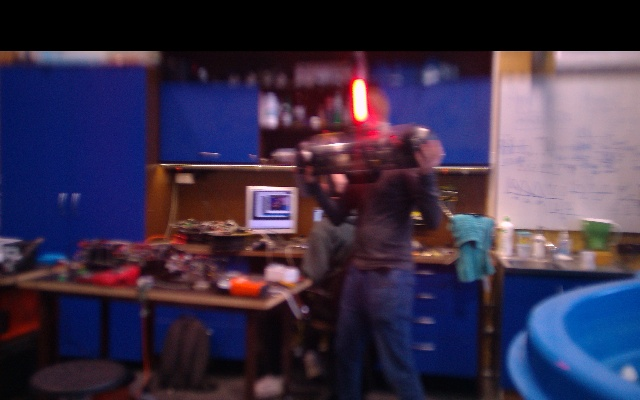red: (350, 77, 368, 124)
